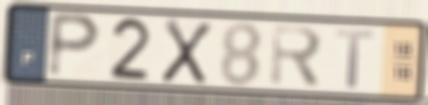2: (108, 14, 154, 83)
8: (218, 19, 267, 90)
P: (45, 10, 105, 82)
R: (268, 22, 327, 92)
T: (333, 26, 377, 91)
X: (158, 16, 215, 87)
